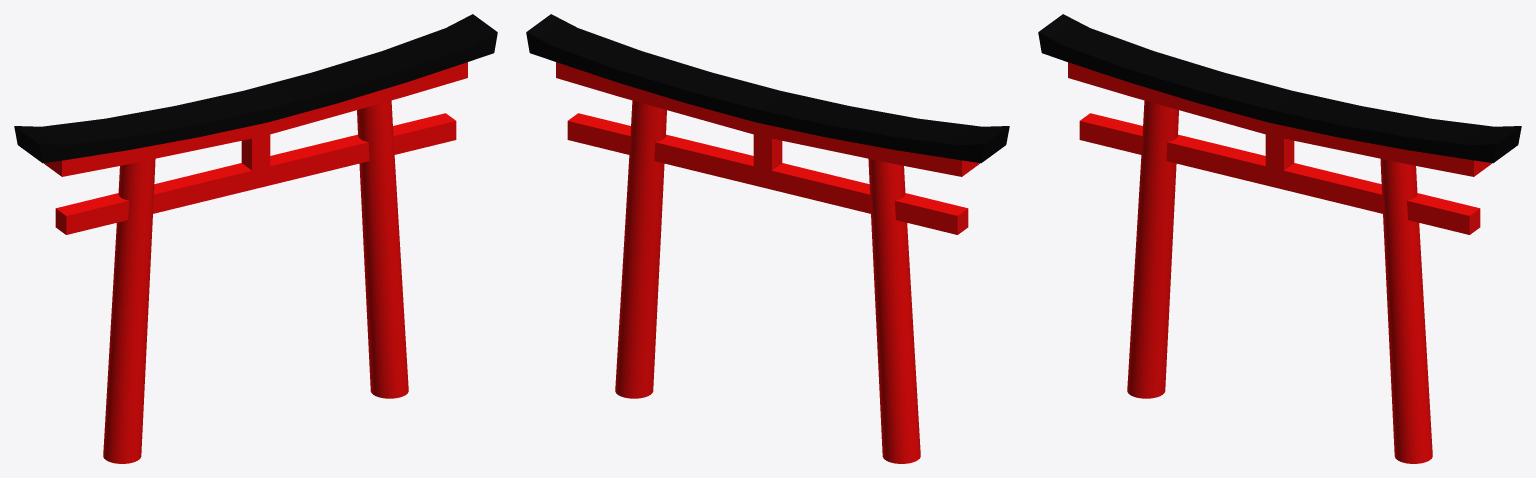
The model's file is gate.glb.
3 renders of one model, left to right at view 1: azimuth 30°, elevation 25°; view 2: azimuth 150°, elevation 25°; view 3: azimuth 330°, elevation 25°, orthographic.
Parts seen in each view (by area): view 1: Balken Mitte; view 2: Balken Mitte; view 3: Balken Mitte.
Part boxes in pixels (box(x1,y1,x2,y2)): Balken Mitte: box(14, 14, 497, 463); Balken Mitte: box(526, 14, 1009, 463); Balken Mitte: box(1038, 14, 1521, 463).
Bounding box in the file's own units: 7.62 × 5.47 × 0.7181.
Materials: 1 (1 with a texture image).
